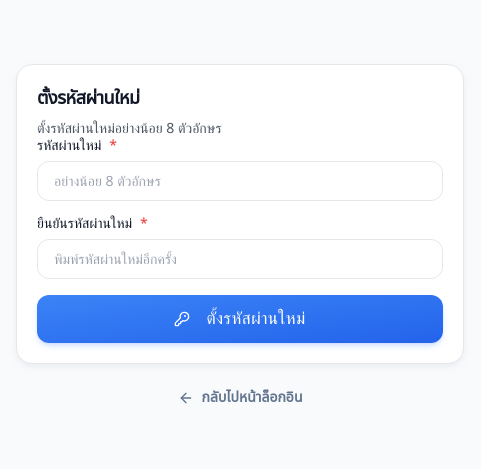
Test: Reset password form › warns when the two passwords do not match
Type "newpass12" into the password field with placeholder "อย่างน้อย 8 ตัวอักษร".
click(240, 181); type("newpass12")  # box top-left (37, 161), bottom-right (443, 201)
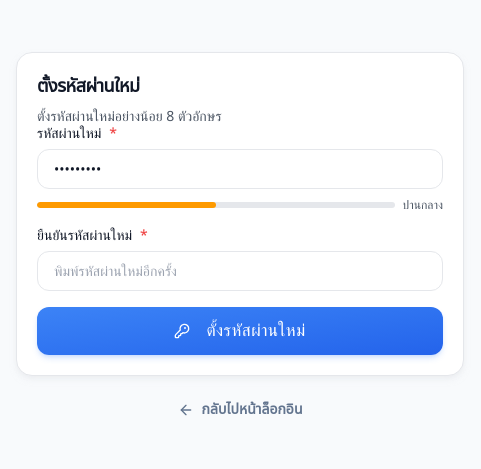
Type "different9" into the password field with placeholder "พิมพ์รหัสผ่านใหม่อีกครั้ง".
click(240, 271); type("different9")  # box top-left (37, 251), bottom-right (443, 291)
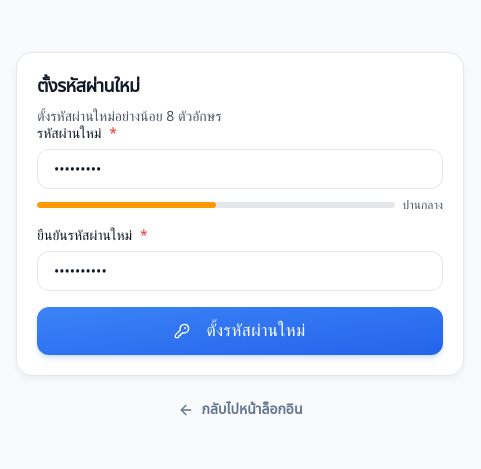
Click the button "ตั้งรหัสผ่านใหม่".
click(240, 331)  # box top-left (37, 307), bottom-right (443, 355)
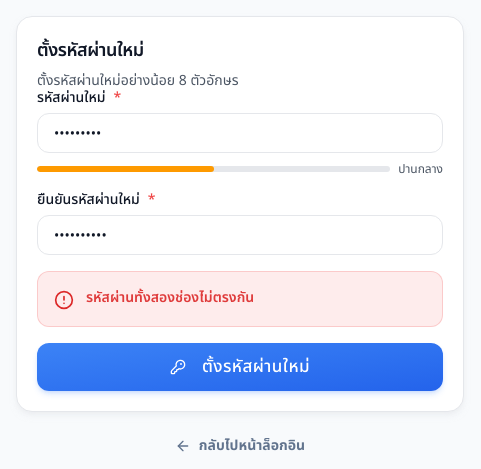
expect the text "รหัสผ่านทั้งสองช่องไม่ตรงกัน" is shown: met, box top-left (86, 287), bottom-right (254, 308)
